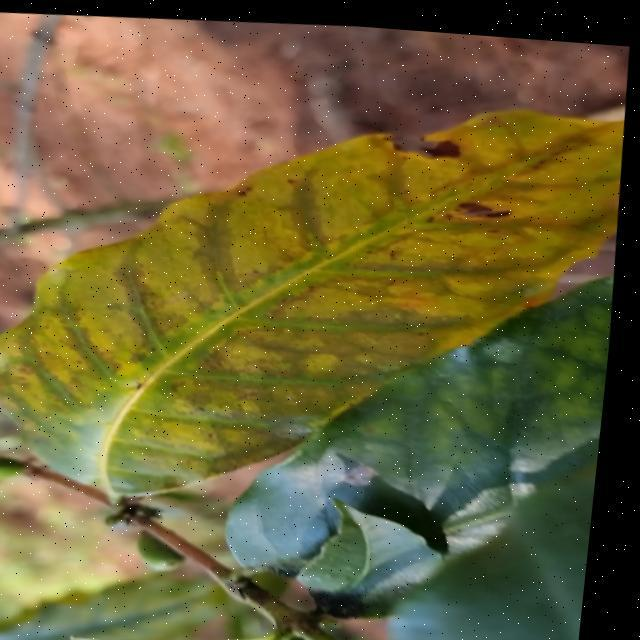leaves: (0, 16, 640, 551)
